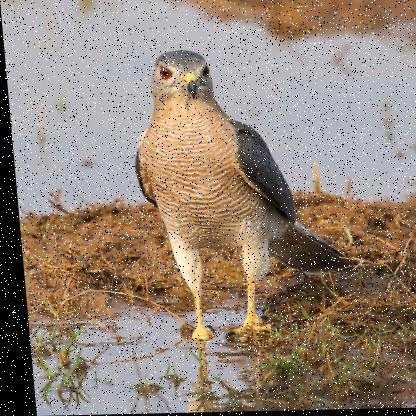Burung: (125, 47, 353, 343)
